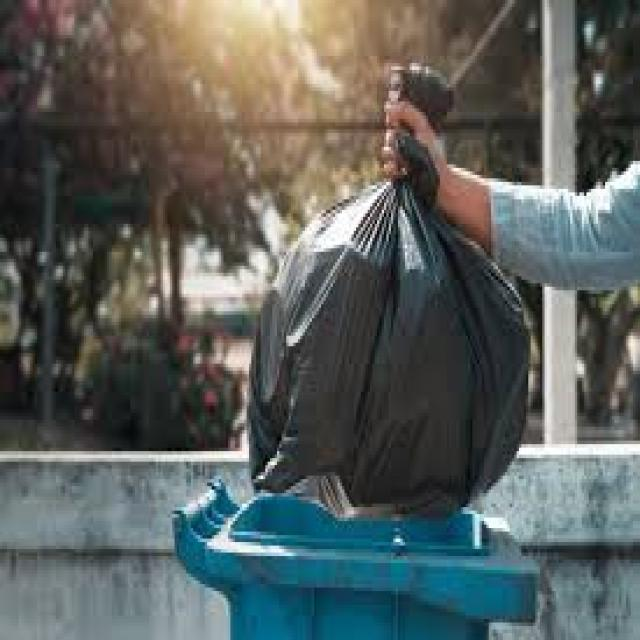Trashbag: (242, 65, 540, 522)
